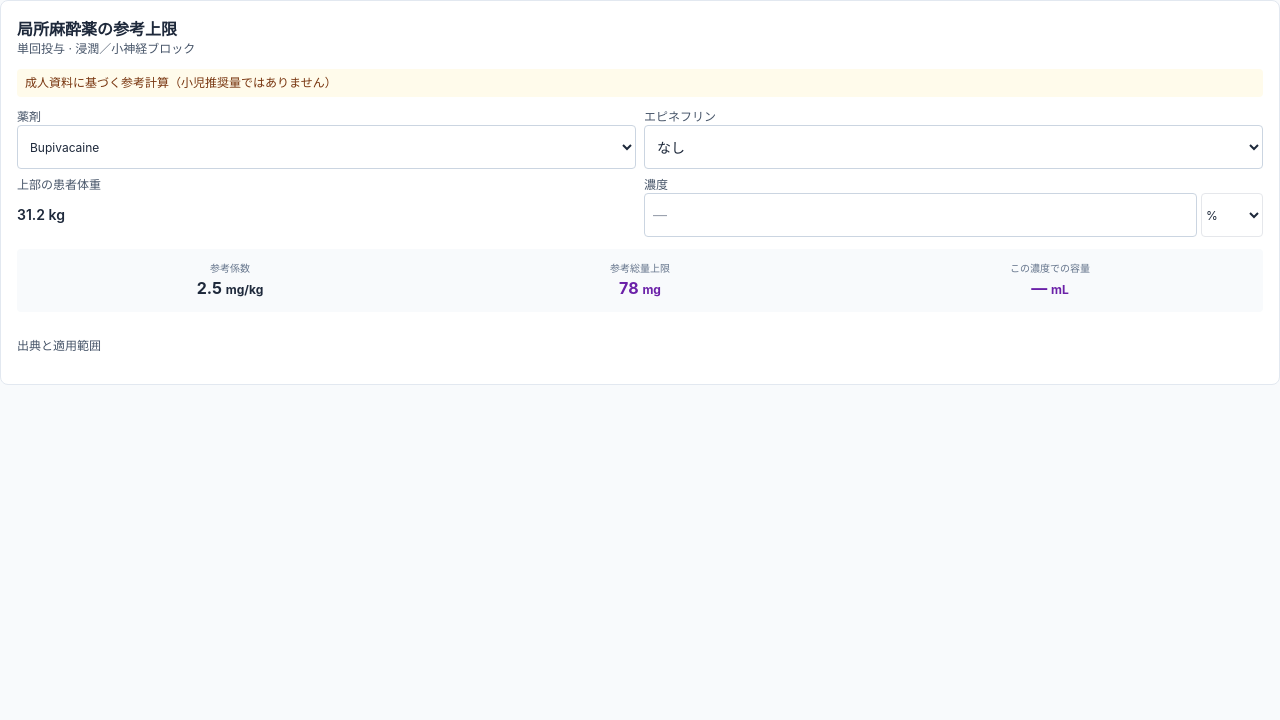
Adult prototype references: arithmetic and scope › keeps concise Japanese pediatric copy visible with detailed caveats folded
This screenshot has width=1280, height=720.
Expected: the element named "Adult reference scope" reads "成人資料に基づく参考計算（小児推奨量ではありません）", [25,75,337,90]
Expected: the text "目標量・安全保証ではなく参考上限" is not shown
Click the heading "出典と適用範囲": coordinates (59, 346) [17,338,101,353]
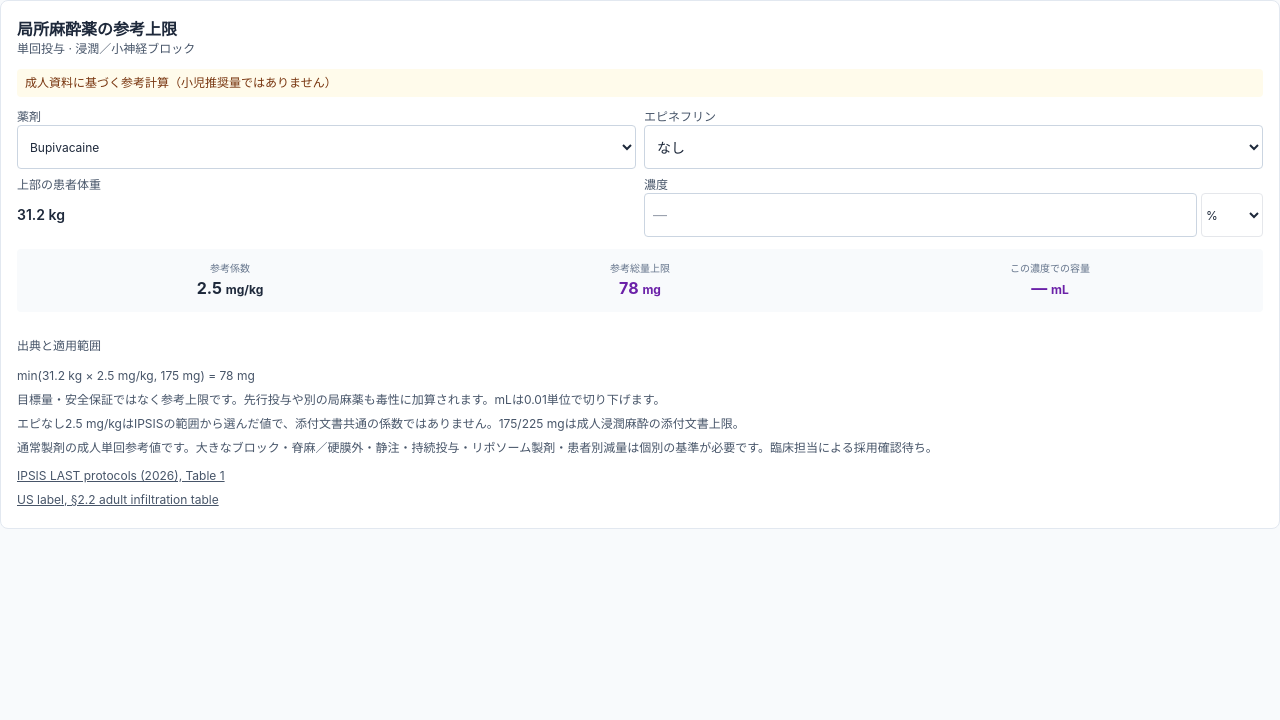
Now the text "目標量・安全保証ではなく参考上限です。先行投与や別の局麻薬も毒性に加算されます。mLは0.01単位で切り下げます。" is shown, box [17,392,666,407]
Now the text "min(31.2 kg × 2.5 mg/kg, 175 mg) = 78 mg" is shown, box [17,368,255,383]
